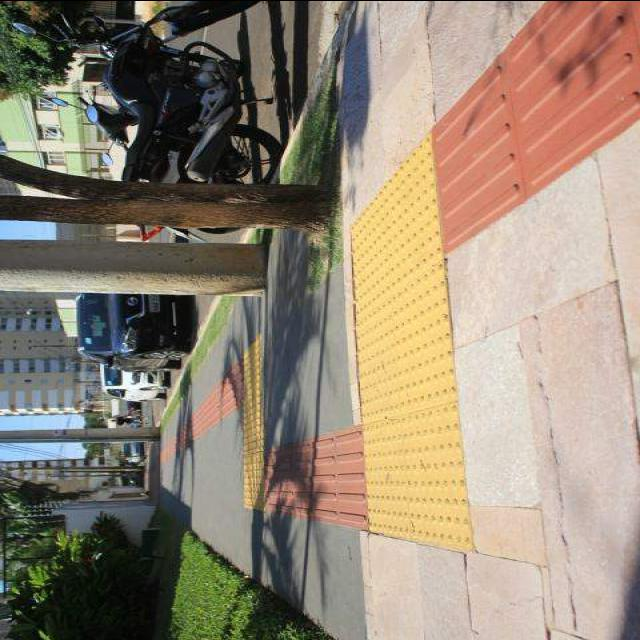tactile-guide-path: (349, 128, 472, 554), (432, 1, 638, 254), (264, 423, 372, 530), (240, 331, 262, 511), (190, 358, 238, 439)
